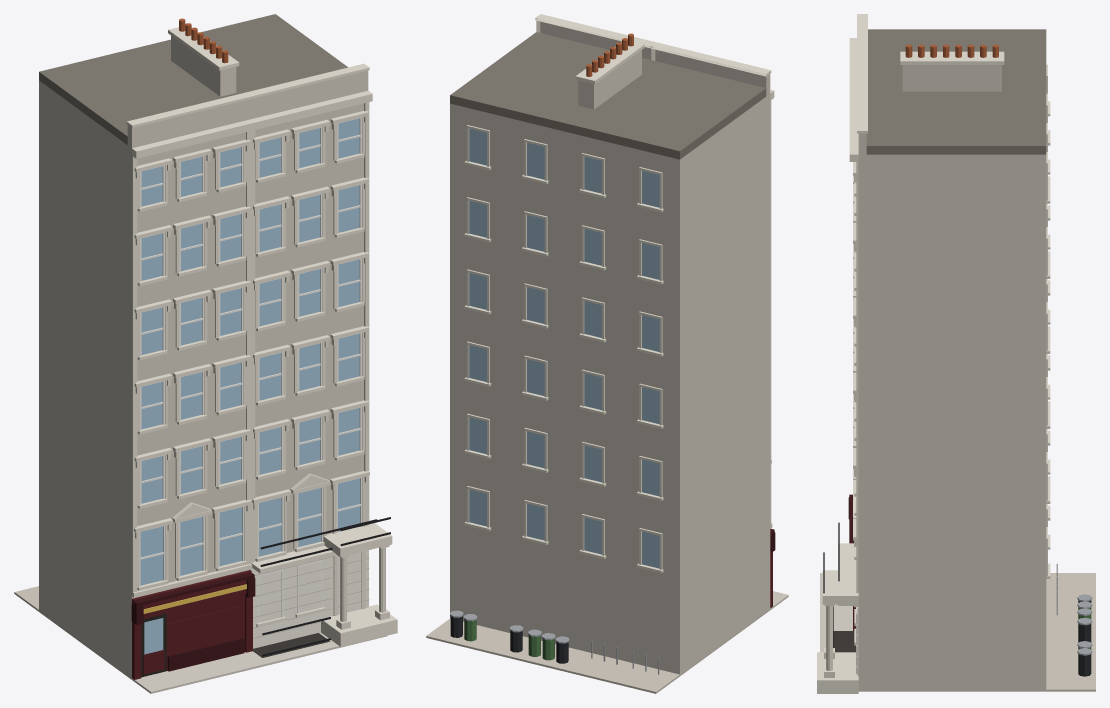
Rendered from Blok_duz_7k_6_Hafif.fbx.
3 views of the same model, side by side, from view 1: azimuth 30°, elevation 25°; view 2: azimuth 150°, elevation 25°; view 3: azimuth 270°, elevation 25° (orthographic). The views are drawn at different scales.
Parts seen in each view (by area): view 1: Blok_duz_7k_6_Hafif; view 2: Blok_duz_7k_6_Hafif; view 3: Blok_duz_7k_6_Hafif.
Boxes of the visible parts, x1,y1,x2,y2 form: Blok_duz_7k_6_Hafif: (14,14,397,693); Blok_duz_7k_6_Hafif: (426,14,788,693); Blok_duz_7k_6_Hafif: (817,14,1095,693).
Bounding box in the file's own units: 10.39 × 23.49 × 10.1.
